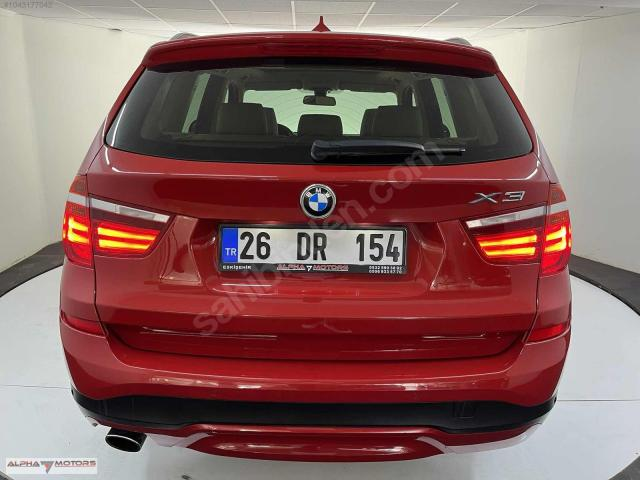plaka: (219, 224, 407, 274)
